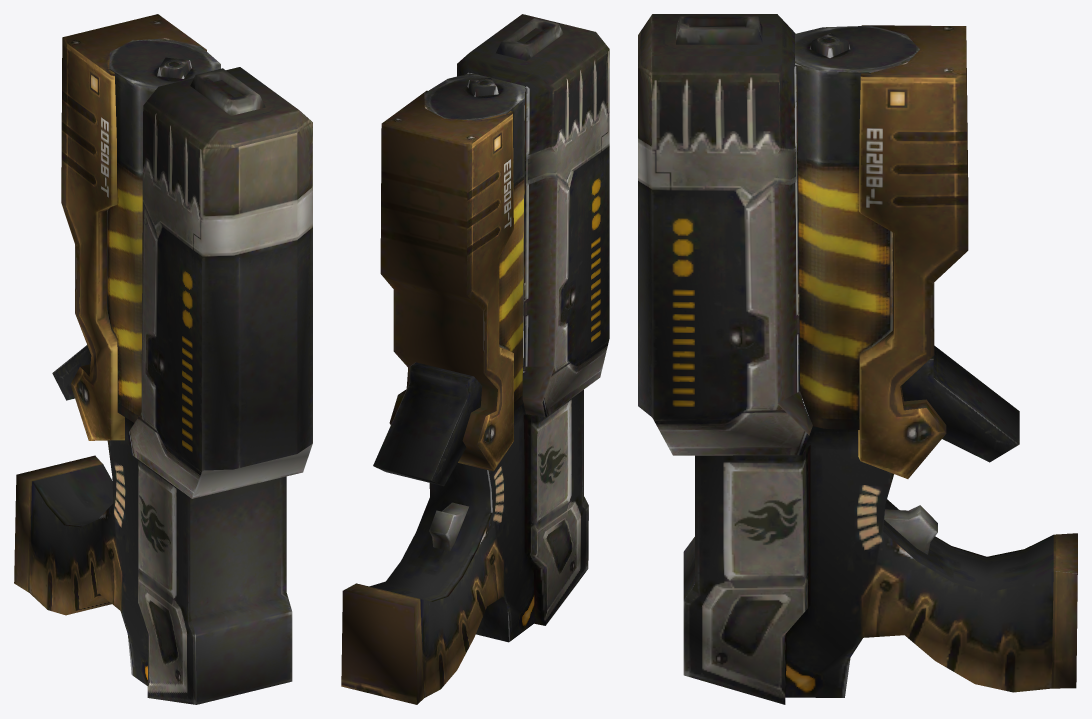
The picture shows the model from 3 angles, left to right: view 1: azimuth 30°, elevation 25°; view 2: azimuth 150°, elevation 25°; view 3: azimuth 270°, elevation 25°; orthographic projection. The views are drawn at different scales.
Visible parts, largest first — view 1: male; view 2: male; view 3: male.
Part boxes in pixels (box(x1,y1,x2,y2)): male: box(14, 14, 312, 704); male: box(341, 14, 609, 704); male: box(638, 14, 1077, 704).
Size of the model in its own units: 18.25 by 98.7 by 59.78.
